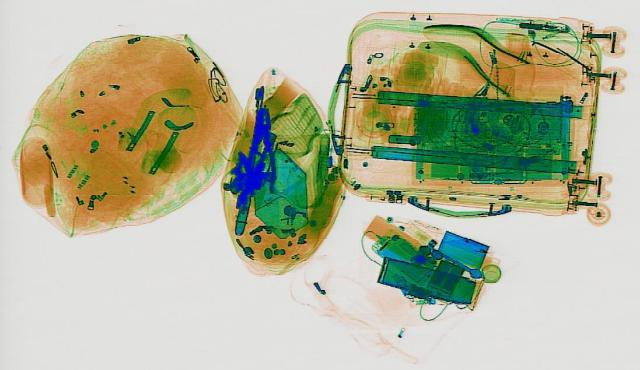Pliers: (246, 107, 278, 195)
